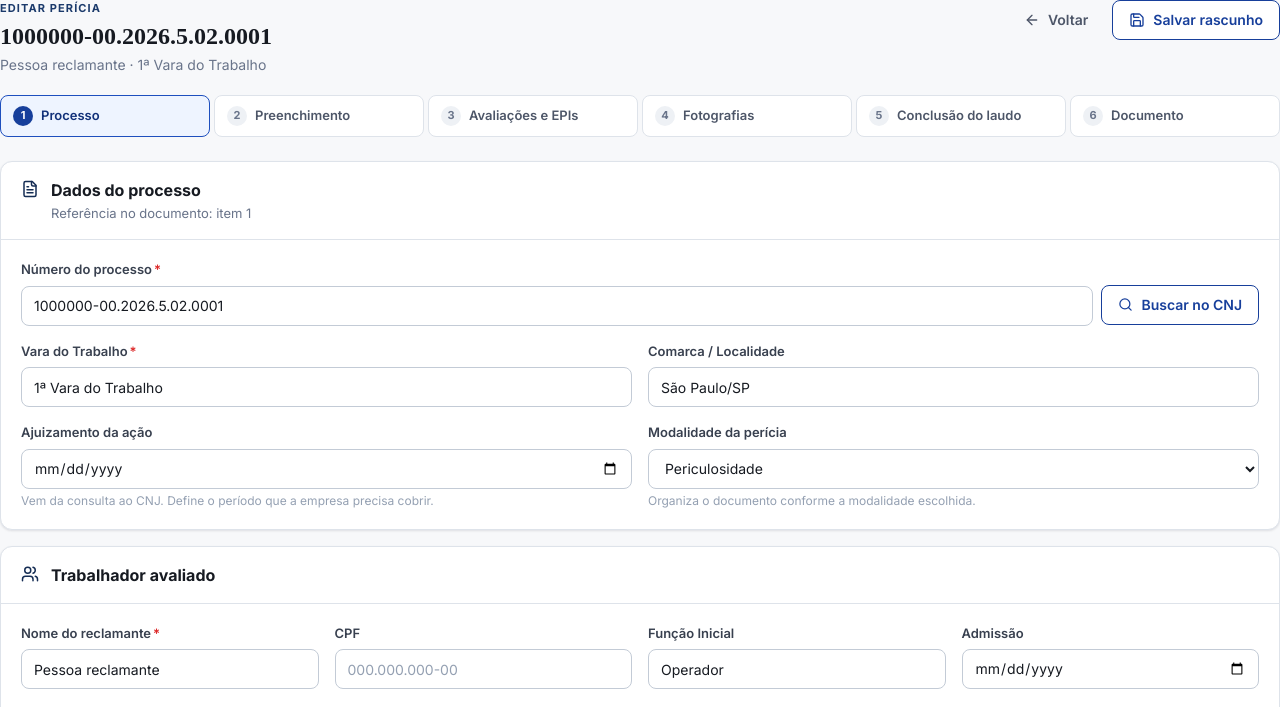
Test: PericiaEditor — varredura obrigatória dos anexos › tem um painel de periculosidade só: o quadro da NR-16 não se marca à mão
What coordinates should you click on to do the following:
click the button "3 Avaliações e EPIs"
I would click on:
 (533, 116)
Its box is [428,94,638,136].
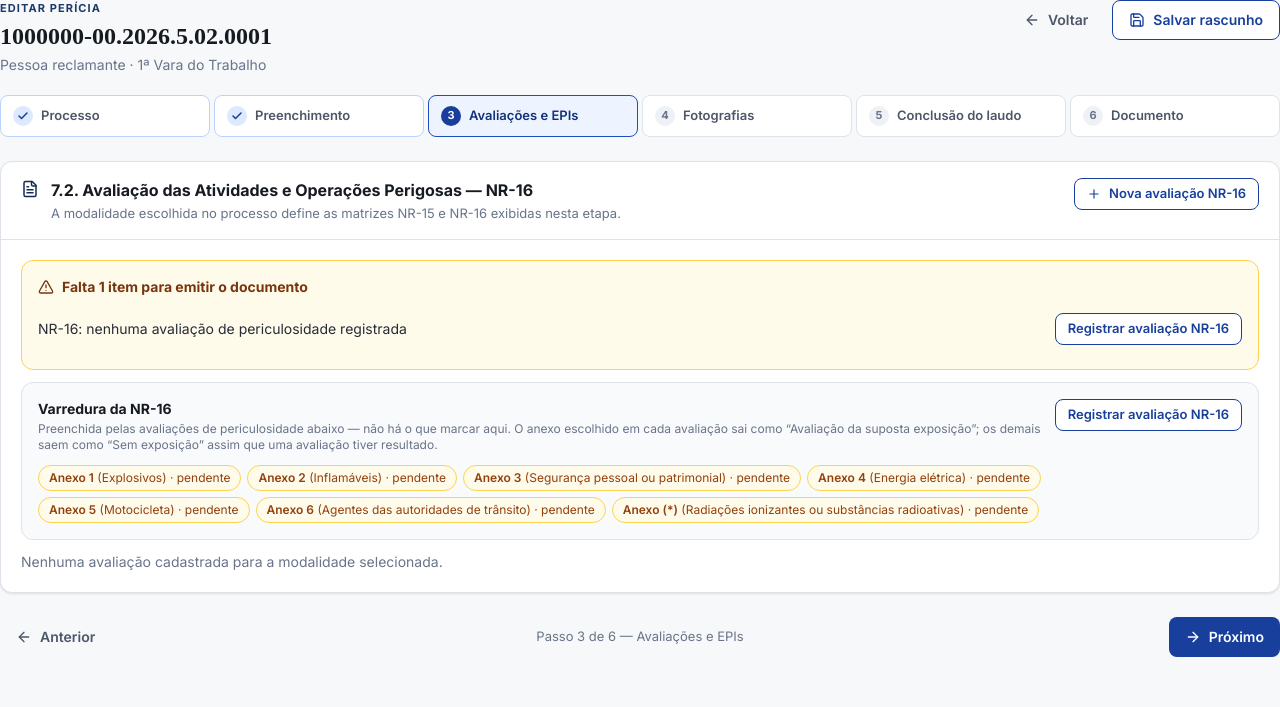
What coordinates should you click on to do the following:
click the button "Registrar avaliação NR-16" in the row of "Avaliação da suposta exposição"
I would click on:
 (1148, 415)
Its box is [1055,399,1242,431].
(page scrolled)
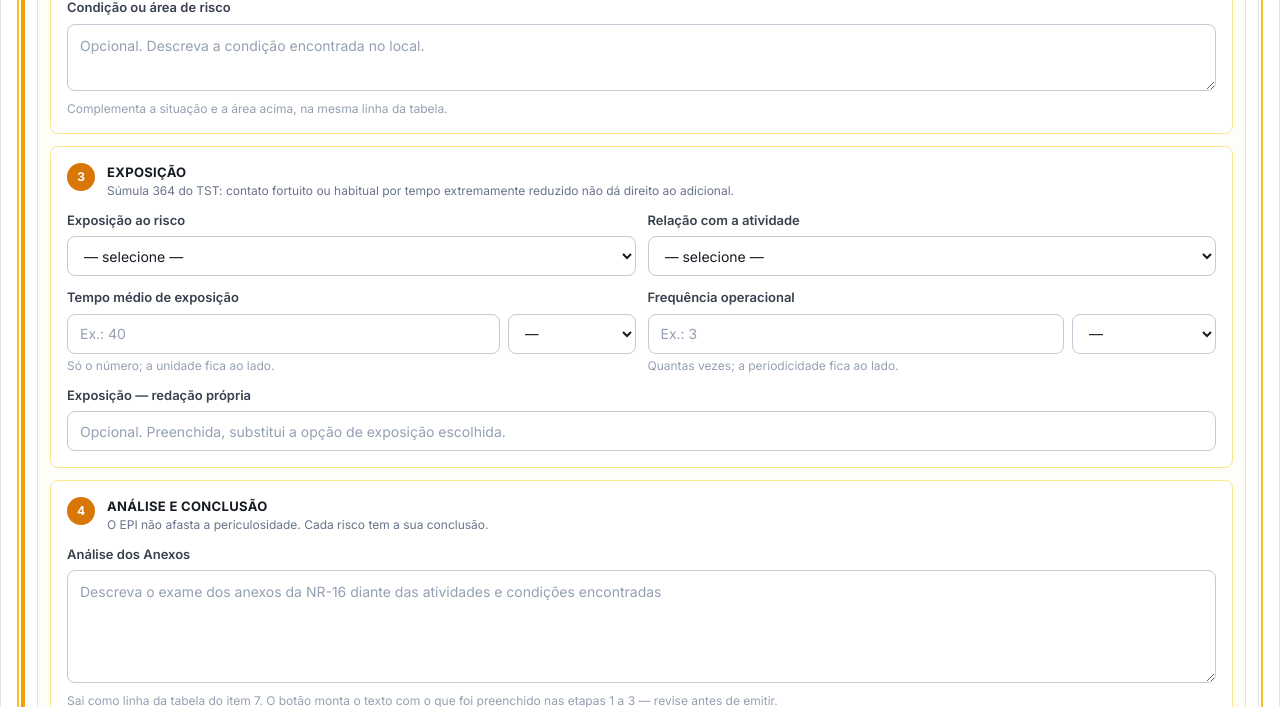
Result: the button "Registrar avaliação NR-16" is gone
